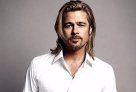male: (51, 3, 98, 58)
